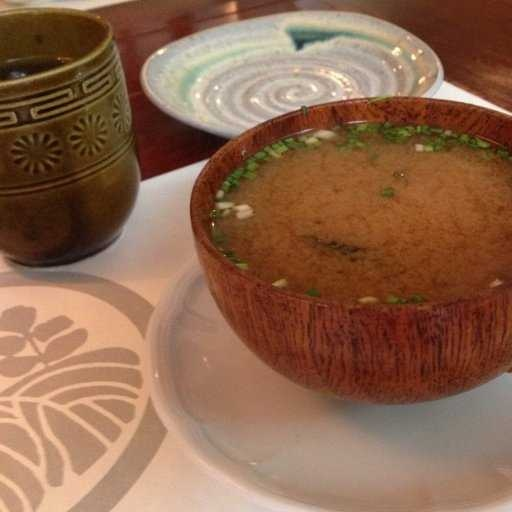soup: (204, 113, 512, 320)
